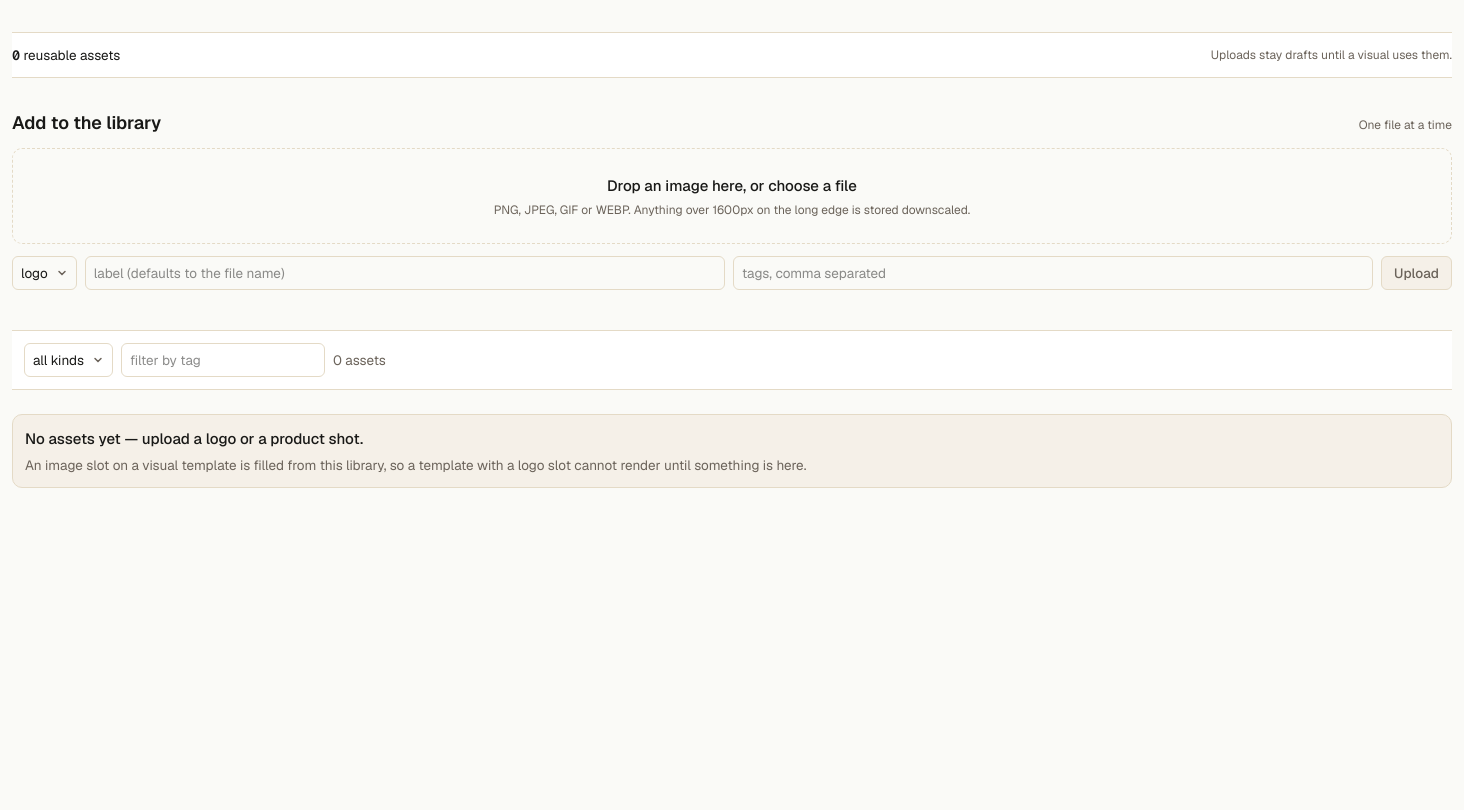
a failed read › lets only the newest request write, so a slow earlier one cannot win
Step 1. Type "a" into the field labelled "filter by tag" → (223, 360), box [121, 343, 325, 377]
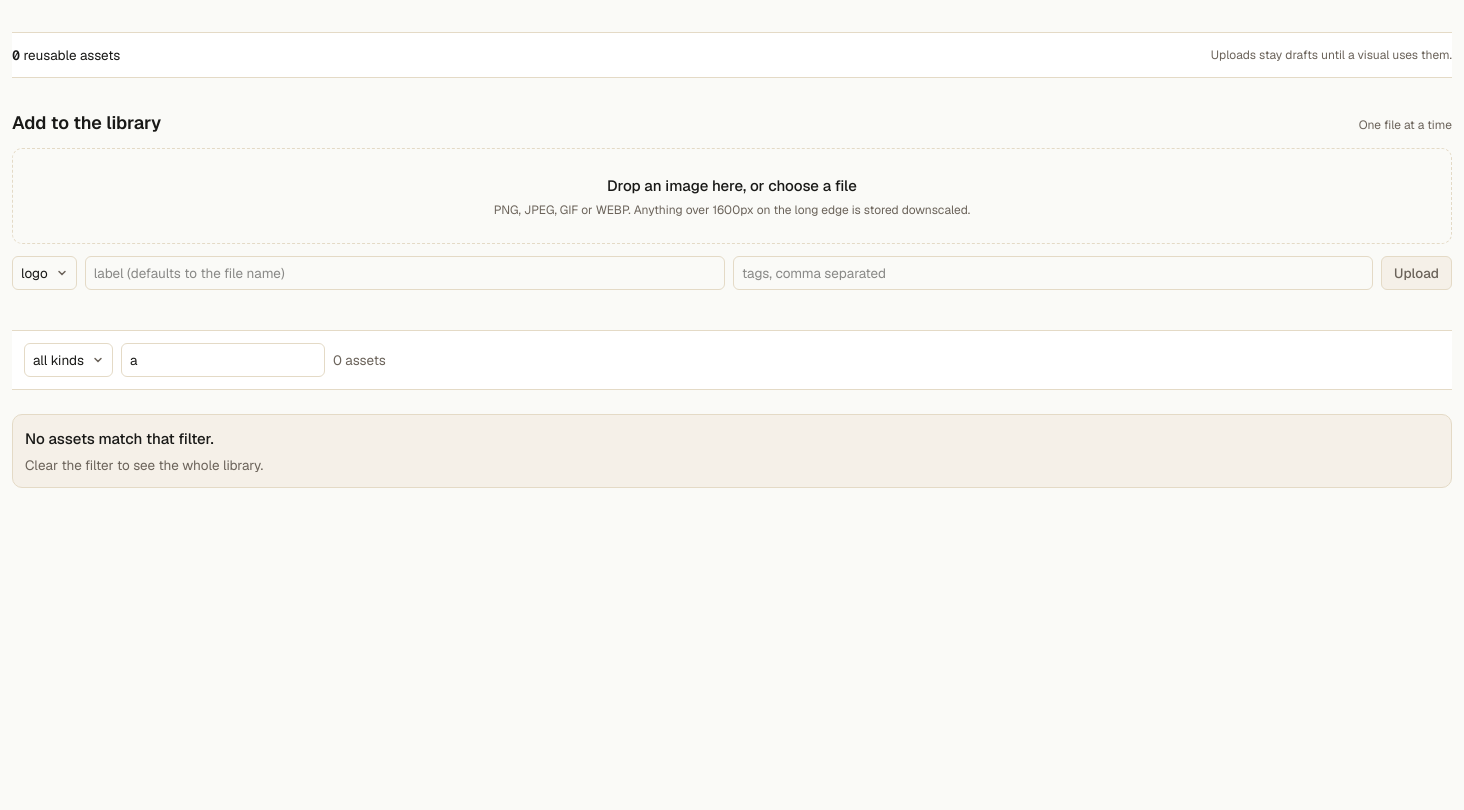
Step 2. Replace the text in the field named "filter by tag" with "ab" → (223, 360), box [121, 343, 325, 377]
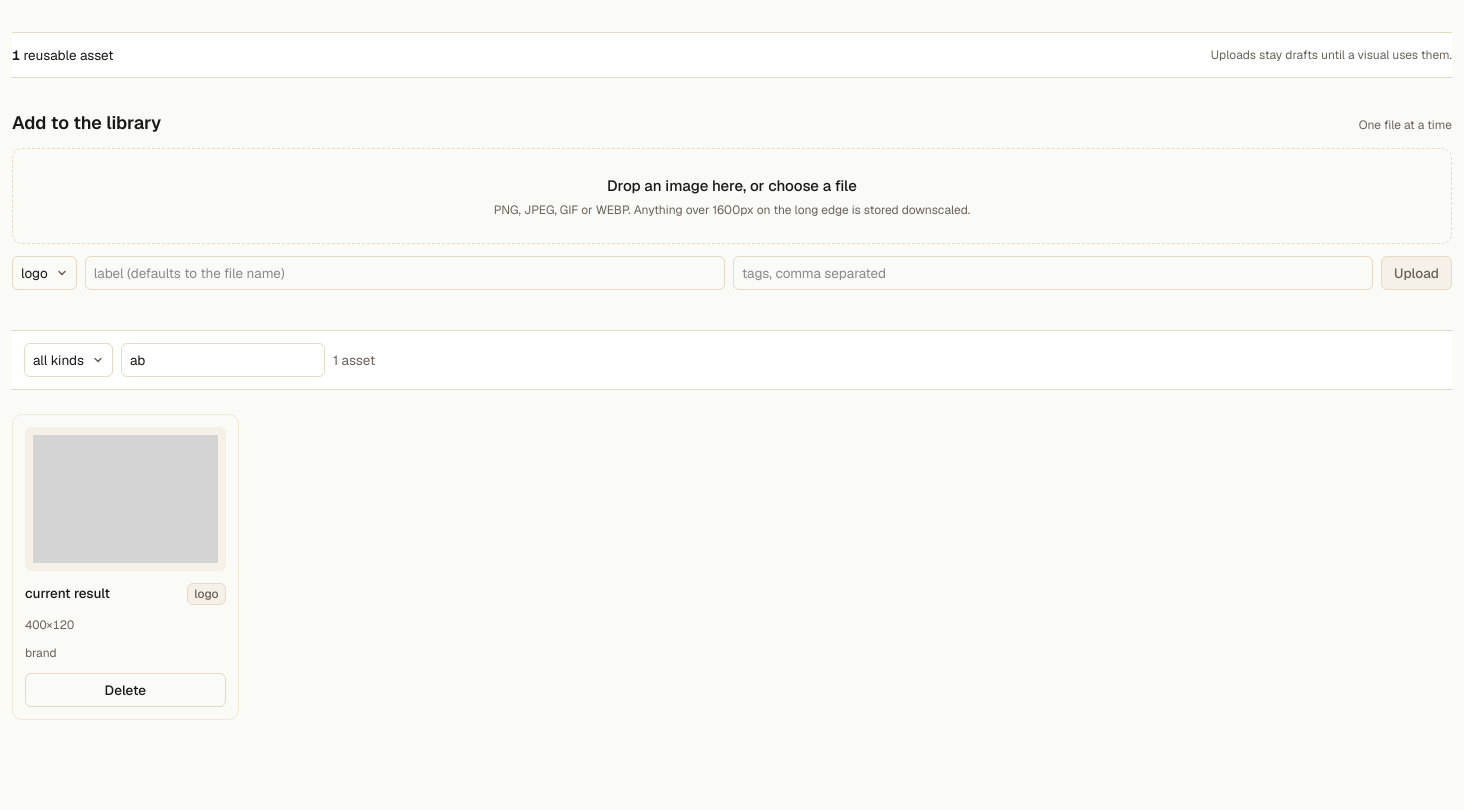
Check: the text "current result" is shown, box [25, 583, 110, 603]
